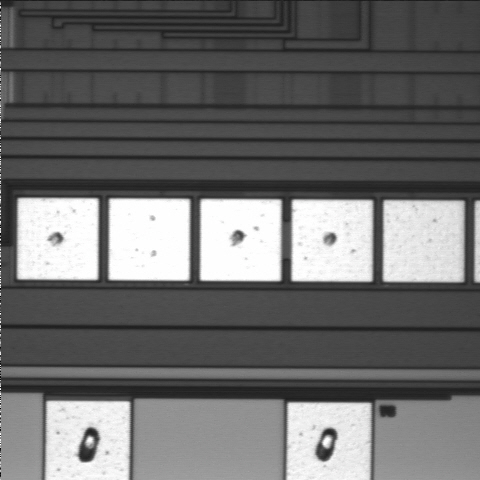pad: (17, 198, 99, 280), (109, 199, 190, 281), (200, 199, 281, 281), (383, 200, 464, 282), (292, 200, 373, 281)
